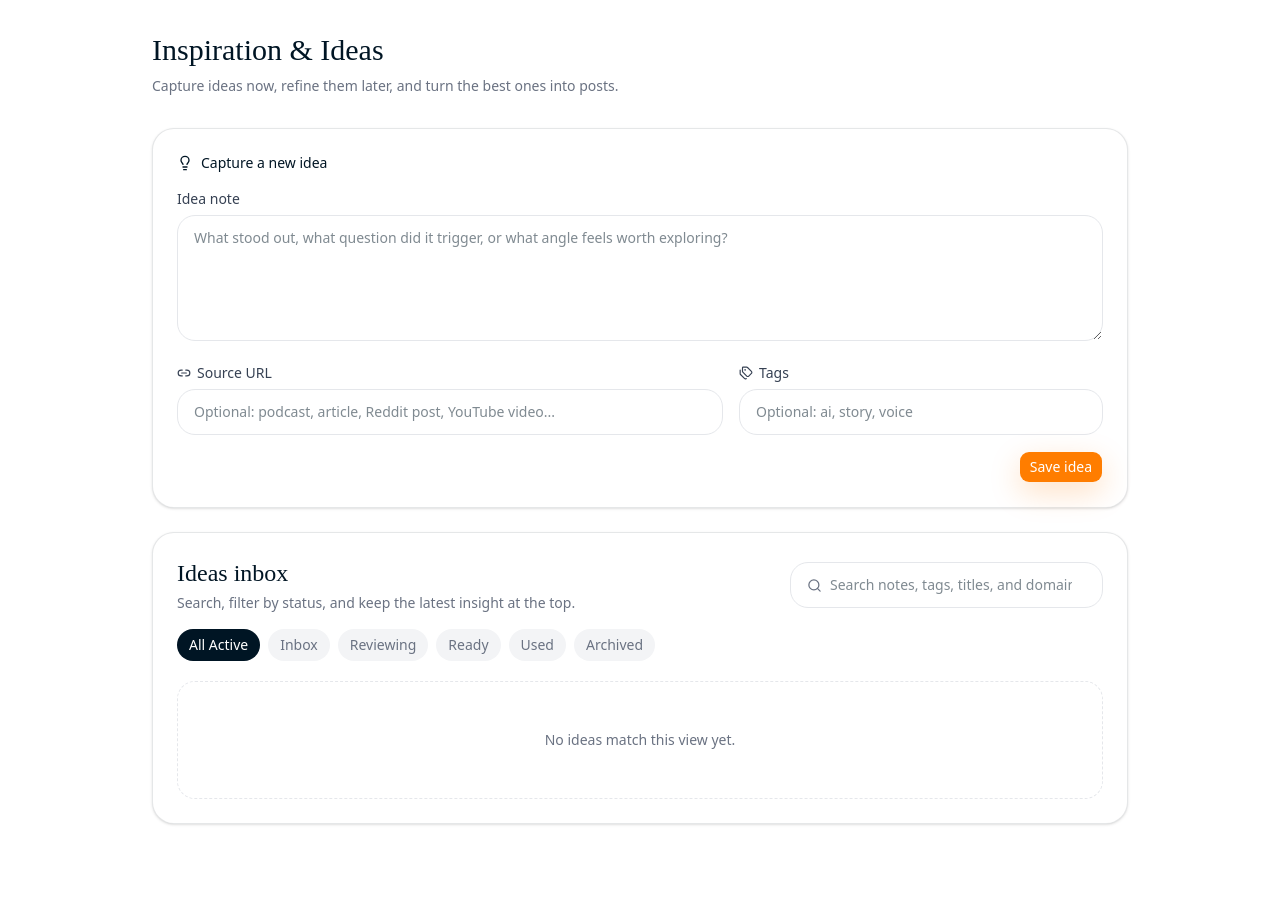
Scenario: IdeasPage › requires a note before saving
This screenshot has width=1280, height=900.
Click the button "Save idea". click: (1061, 467)
box: 1019,451 -> 1103,483
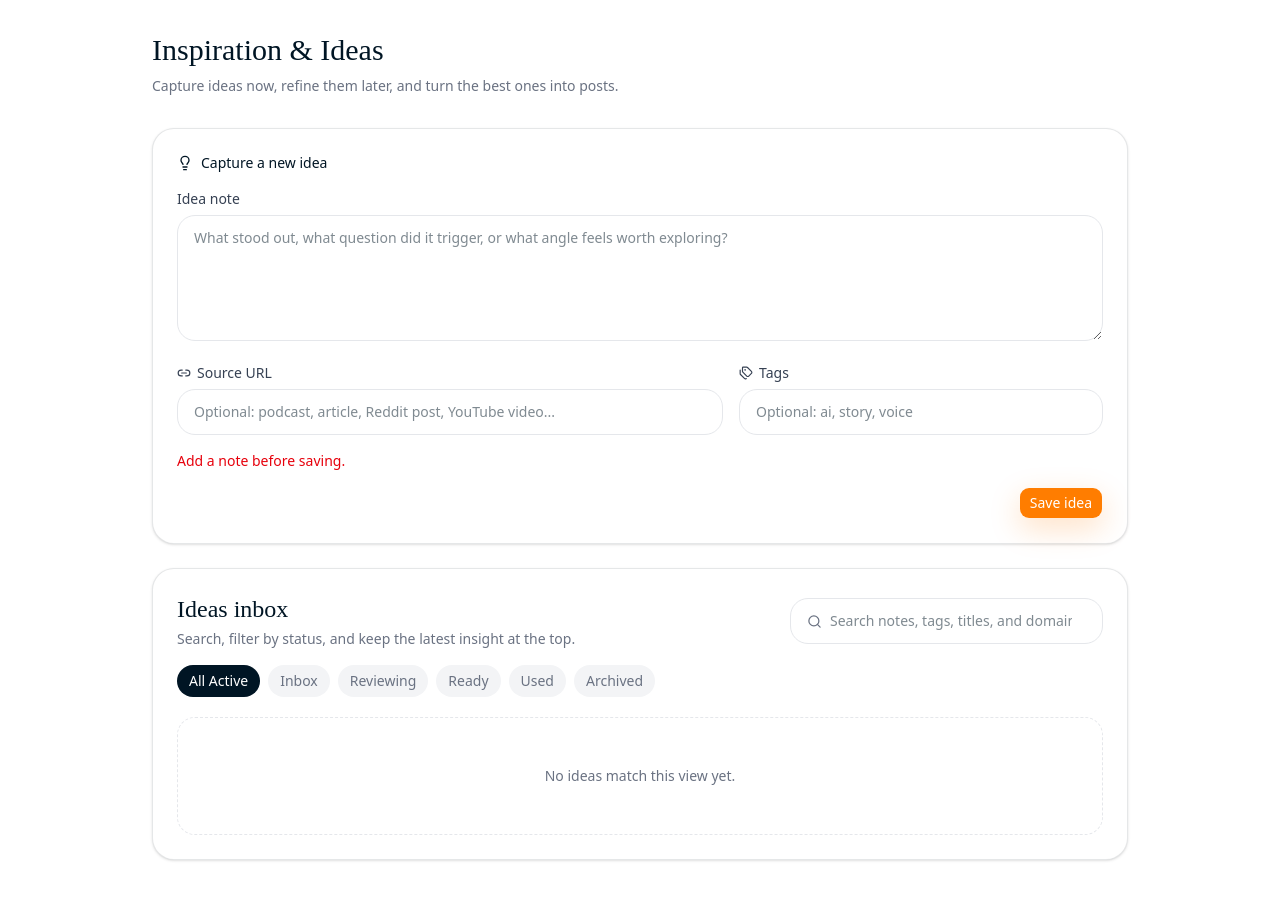
Check: the text "Add a note before saving." is shown, box 177,451 -> 345,470
